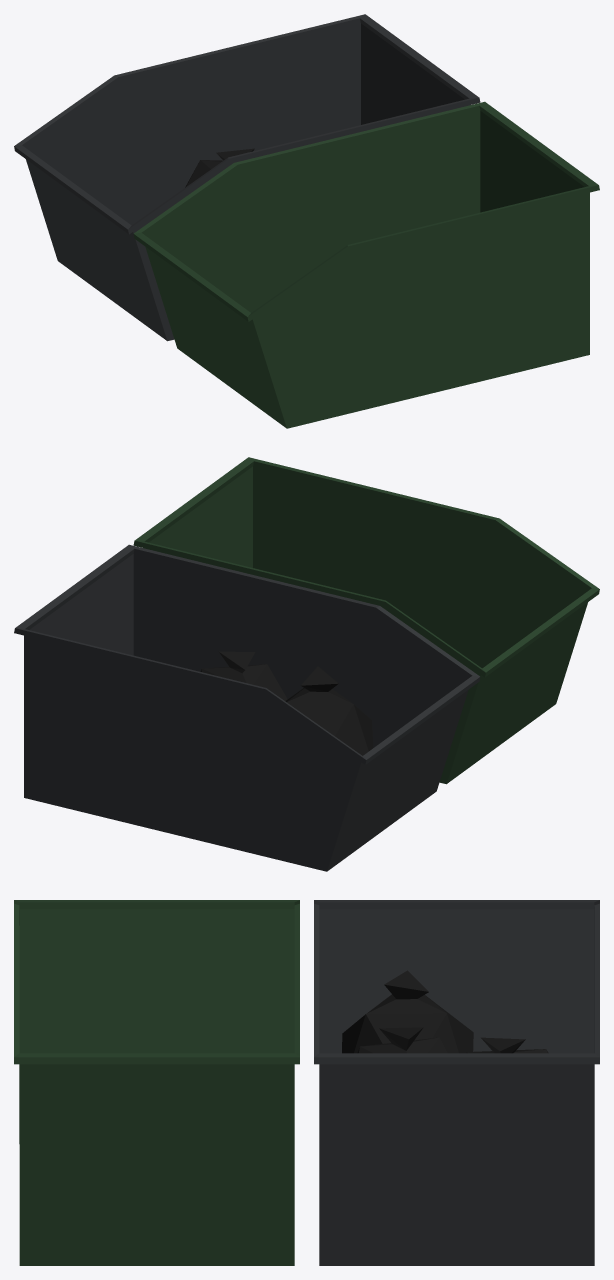
Rendered from Bin3.dae.
The picture shows the model from 3 angles, top to bottom: view 1: azimuth 30°, elevation 25°; view 2: azimuth 150°, elevation 25°; view 3: azimuth 270°, elevation 25°; orthographic projection. The views are drawn at different scales.
Visible parts, largest first — view 1: Bin3; view 2: Bin3; view 3: Bin3.
Part boxes in pixels (left/top/right/bottom): Bin3: left=14, top=14, right=599, bottom=428; Bin3: left=14, top=457, right=599, bottom=871; Bin3: left=14, top=900, right=599, bottom=1265.
Size of the model in its own units: 1.41 by 1.62 by 0.6671.
